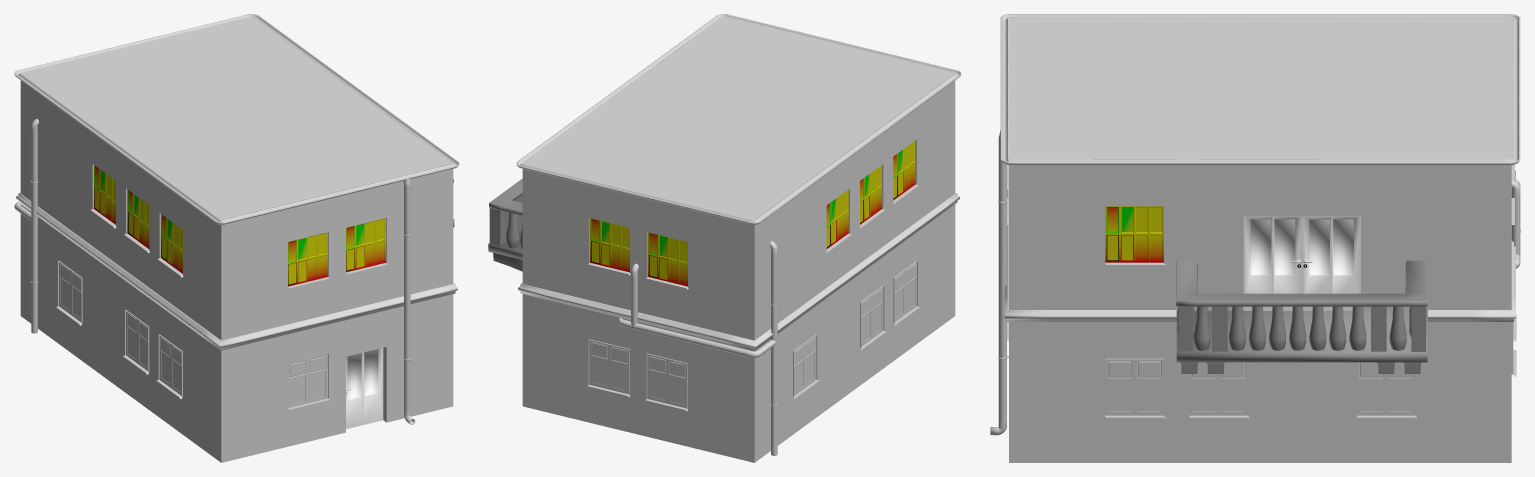
Rendered from building 8x8x12.fbx.
3 views of the same model, side by side, from view 1: azimuth 30°, elevation 25°; view 2: azimuth 150°, elevation 25°; view 3: azimuth 270°, elevation 25° (orthographic). The views are drawn at different scales.
Visible parts, largest first — view 1: roof005, Object050, Object043, Object087, finestra_v3_lp002, Object049, Tube_std_vt001, door_lp005, Wall_Detail_lp_L_v011, Object071, canalina_std027, Tube_dir002; view 2: roof005, wall_023, Object043, finestra_v3_lp006, Object087, Tube_std_vt001, Tube_dir002, Wall_Detail_lp_L_v012, balcone008, Object071, canalina_std027, Object049; view 3: wall_025, roof005, balcone008, finestra_v3_lp003, door_lp006, Object049, canalina_std027, Object068, Tube_std_vt001, Tube_dir002, Wall_Detail_lp_L_v012, Wall_Detail_lp_L_v011.
Part boxes in pixels (<box>): roof005: <box>20,16,452,219</box>; Object050: <box>221,169,453,462</box>; Object043: <box>20,80,221,462</box>; Object087: <box>55,165,183,398</box>; finestra_v3_lp002: <box>287,218,388,410</box>; Object049: <box>212,160,459,424</box>; Tube_std_vt001: <box>14,75,217,333</box>; door_lp005: <box>346,348,383,429</box>; Wall_Detail_lp_L_v011: <box>201,283,457,350</box>; Object071: <box>36,206,204,337</box>; canalina_std027: <box>256,17,455,162</box>; Tube_dir002: <box>14,14,260,78</box>; roof005: <box>522,16,954,220</box>; wall_023: <box>522,169,754,462</box>; Object043: <box>754,80,955,462</box>; finestra_v3_lp006: <box>586,218,688,411</box>; Object087: <box>793,141,920,398</box>; Tube_std_vt001: <box>745,75,957,455</box>; Tube_dir002: <box>516,160,763,356</box>; Wall_Detail_lp_L_v012: <box>518,283,772,350</box>; balcone008: <box>488,179,522,271</box>; Object071: <box>777,206,941,333</box>; canalina_std027: <box>520,17,719,162</box>; Object049: <box>715,14,961,78</box>; wall_025: <box>1009,159,1511,462</box>; roof005: <box>1009,17,1512,159</box>; balcone008: <box>1176,260,1427,373</box>; finestra_v3_lp003: <box>1104,206,1416,418</box>; door_lp006: <box>1243,216,1360,310</box>; Object049: <box>990,14,1017,435</box>; canalina_std027: <box>1017,159,1503,164</box>; Object068: <box>1051,310,1469,321</box>; Tube_std_vt001: <box>1017,14,1520,187</box>; Tube_dir002: <box>1503,14,1520,268</box>; Wall_Detail_lp_L_v012: <box>1470,170,1515,321</box>; Wall_Detail_lp_L_v011: <box>1004,189,1050,321</box>.
Bounding box in the file's own units: 10.55 × 8.11 × 12.66.
